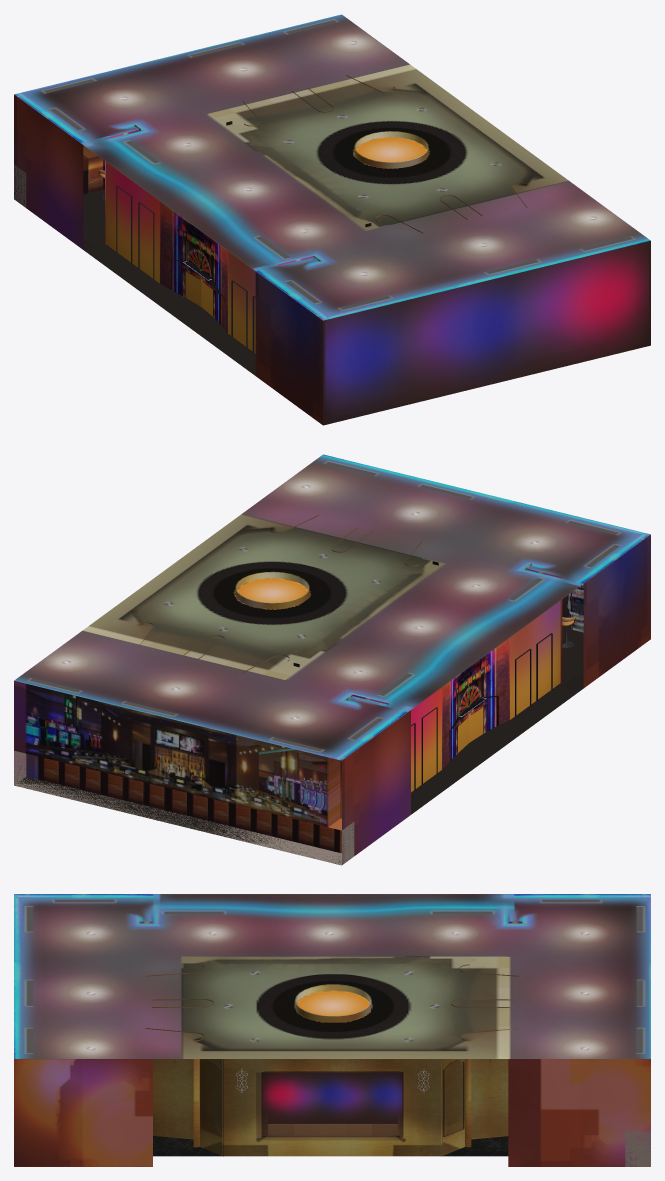
The model's file is gamentio-casino-room.fbx.
3 views of the same model, one above another, from view 1: azimuth 30°, elevation 25°; view 2: azimuth 150°, elevation 25°; view 3: azimuth 270°, elevation 25° (orthographic). The views are drawn at different scales.
Visible parts, largest first — view 1: wall_and_floor_lambert2_0, bar_lambert2_0; view 2: wall_and_floor_lambert2_0, bar_lambert2_0, PlayMachine_PlayMachine1_0; view 3: wall_and_floor_lambert2_0, bar_lambert2_0.
Part boxes in pixels (x1=…): wall_and_floor_lambert2_0: x1=14, y1=14, x2=650, y2=425; bar_lambert2_0: x1=14, y1=145, x2=104, y2=207; wall_and_floor_lambert2_0: x1=14, y1=454, x2=650, y2=864; bar_lambert2_0: x1=14, y1=681, x2=354, y2=865; PlayMachine_PlayMachine1_0: x1=567, y1=584, x2=583, y2=632; wall_and_floor_lambert2_0: x1=14, y1=894, x2=650, y2=1166; bar_lambert2_0: x1=625, y1=1131, x2=650, y2=1166.
Bounding box in the file's own units: 226954 × 74198 × 370686.
